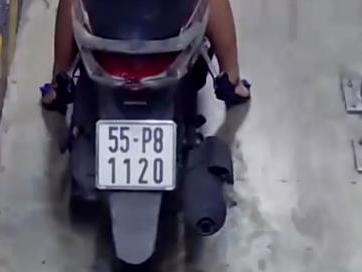num_plate: (94, 118, 176, 189)
